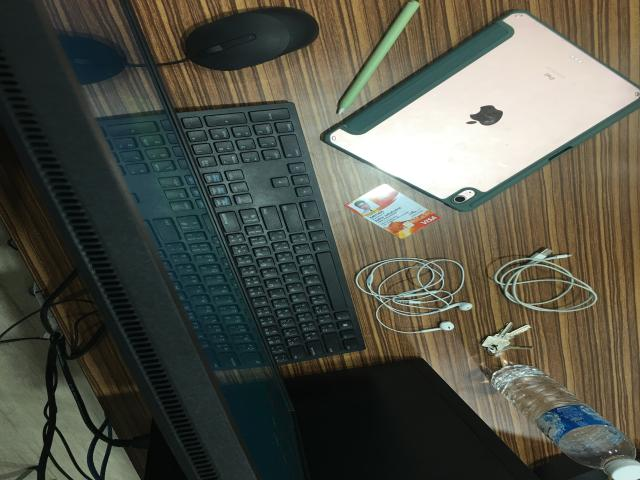Keys: (480, 323, 532, 359)
Mouse: (183, 8, 321, 72)
bottle: (490, 364, 640, 480)
wire: (354, 259, 477, 335), (494, 250, 598, 314)
